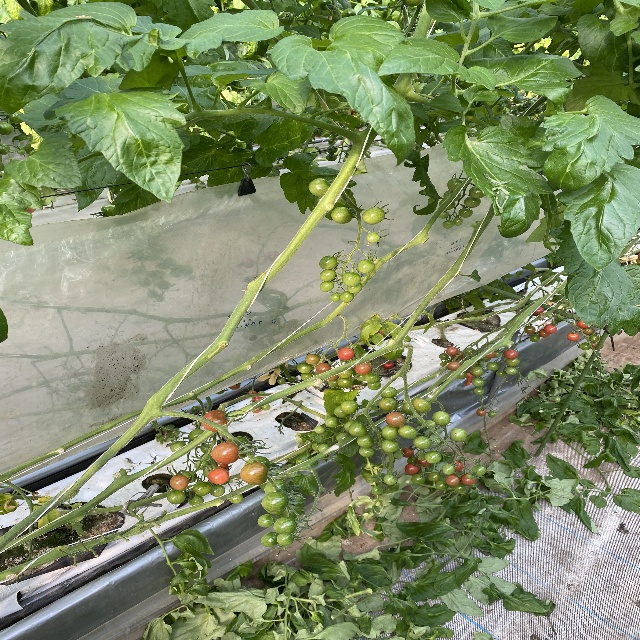l_fully_ripened: (208, 467, 229, 484), (337, 347, 354, 360), (449, 460, 463, 472), (404, 463, 419, 474), (416, 457, 431, 468), (461, 474, 476, 485), (401, 447, 415, 458), (543, 324, 558, 334), (504, 350, 519, 359), (446, 346, 458, 356), (534, 306, 545, 316), (382, 360, 394, 369), (577, 321, 589, 328)
l_green: (224, 436, 252, 459), (261, 491, 288, 512), (362, 206, 385, 225), (273, 517, 297, 535), (330, 206, 353, 224), (309, 178, 330, 196), (264, 480, 287, 495), (244, 456, 269, 469), (261, 532, 281, 548), (348, 421, 367, 437), (398, 424, 418, 439), (192, 481, 211, 496), (319, 255, 338, 270), (432, 411, 451, 426), (167, 490, 185, 505), (342, 272, 361, 286), (412, 398, 431, 412), (377, 398, 397, 411), (412, 436, 432, 449), (381, 424, 398, 439), (258, 514, 276, 528), (357, 259, 375, 273), (341, 400, 358, 414), (450, 428, 467, 442), (203, 465, 221, 478), (381, 440, 399, 453), (333, 404, 349, 418), (277, 533, 294, 546), (357, 434, 374, 447), (468, 186, 485, 199), (447, 178, 464, 191), (463, 196, 481, 208), (443, 190, 461, 202), (320, 269, 336, 282), (425, 451, 441, 464), (180, 471, 197, 483), (170, 441, 187, 453), (380, 386, 397, 398), (188, 429, 204, 441), (209, 485, 225, 497), (359, 446, 375, 458), (363, 372, 380, 383), (439, 199, 456, 210), (340, 291, 355, 303), (325, 416, 340, 428), (188, 495, 204, 506), (337, 377, 353, 388), (401, 402, 414, 415), (383, 473, 397, 485), (347, 283, 362, 294), (319, 281, 334, 292), (458, 207, 473, 218), (297, 363, 313, 373), (345, 420, 358, 432), (442, 463, 455, 475), (366, 232, 380, 243), (435, 480, 449, 491), (195, 460, 210, 470), (411, 474, 426, 484), (472, 466, 487, 476), (471, 377, 485, 387), (338, 369, 353, 378), (336, 433, 351, 442), (318, 443, 331, 453), (427, 472, 440, 482), (472, 366, 485, 376), (229, 494, 243, 503), (367, 381, 381, 390), (454, 482, 466, 492), (200, 444, 213, 453), (442, 220, 455, 229), (486, 362, 499, 371), (505, 366, 518, 375), (506, 358, 520, 366), (407, 456, 418, 466), (371, 486, 383, 495), (464, 347, 476, 356), (300, 372, 313, 380), (329, 379, 340, 388), (314, 425, 325, 434), (425, 420, 436, 429), (456, 370, 467, 379), (589, 333, 600, 342), (529, 334, 541, 342), (330, 293, 340, 302), (439, 210, 449, 219), (311, 442, 320, 451), (355, 373, 365, 381), (453, 218, 463, 226), (474, 387, 484, 395), (580, 343, 591, 350), (439, 353, 449, 360), (496, 370, 506, 377), (488, 411, 496, 418), (494, 351, 502, 358), (467, 474, 475, 479)
l_half_ripened: (240, 462, 268, 485), (211, 442, 240, 464), (201, 410, 228, 432), (385, 412, 406, 427), (169, 475, 189, 490), (354, 362, 372, 374), (316, 362, 331, 374), (445, 474, 460, 486), (305, 354, 321, 365), (447, 361, 461, 371), (451, 350, 464, 360), (538, 328, 550, 338), (567, 332, 580, 341), (484, 351, 496, 359), (524, 326, 536, 334), (583, 327, 595, 334), (476, 409, 486, 417)
